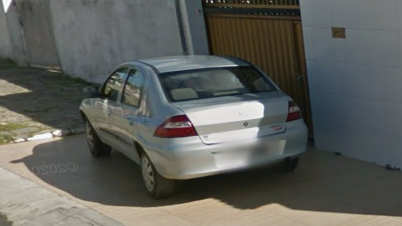car: (77, 52, 309, 202)
